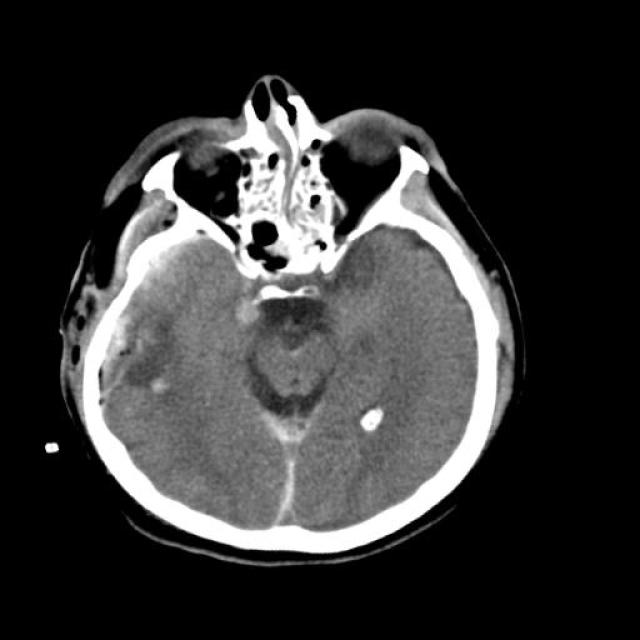Intraparenchymal: (130, 353, 200, 418)
Subdural: (213, 382, 383, 554)
